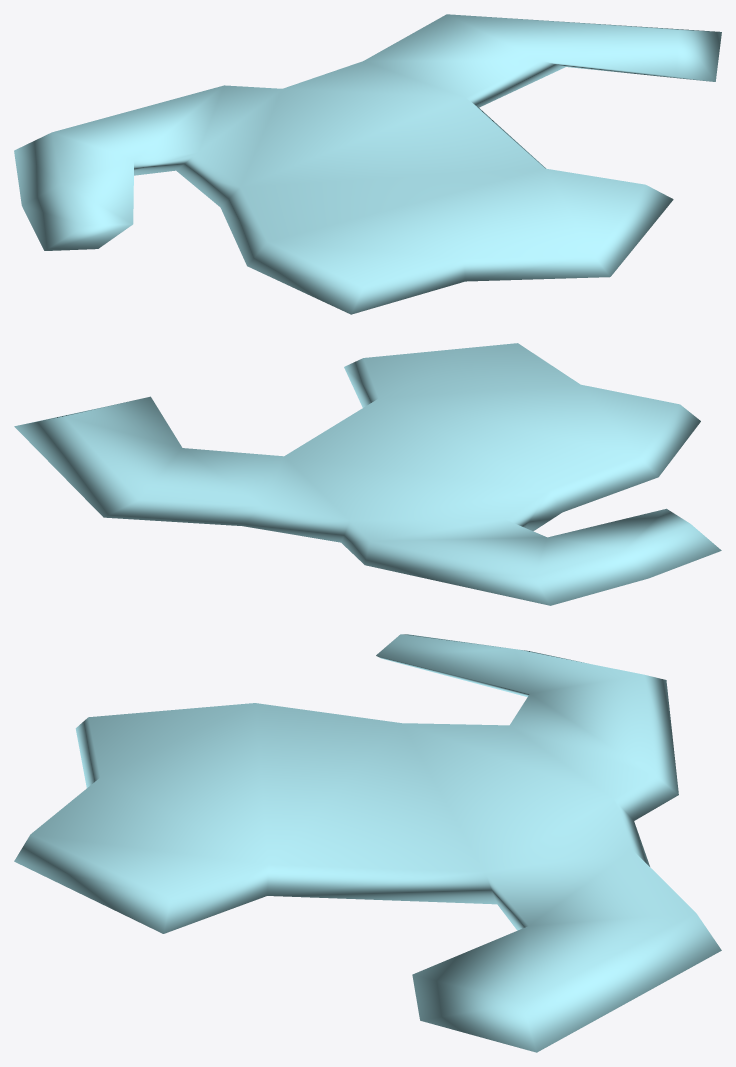
File: cloth_shirt.fbx
3 views of the same model, one above another, from view 1: azimuth 30°, elevation 25°; view 2: azimuth 150°, elevation 25°; view 3: azimuth 270°, elevation 25° (orthographic). The views are drawn at different scales.
Parts seen in each view (by area): view 1: Line010; view 2: Line010; view 3: Line010.
Part boxes in pixels (<box>): Line010: <box>14,14,721,314</box>; Line010: <box>14,343,721,605</box>; Line010: <box>14,634,721,1052</box>.
Bounding box in the file's own units: 92.73 × 2.23 × 66.3.
